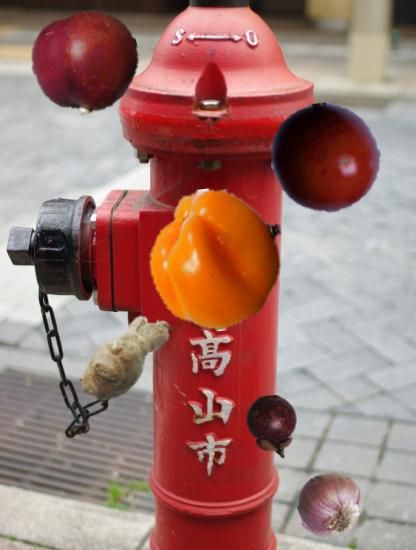Ginger: (70, 302, 182, 414)
Mangostan: (240, 395, 305, 460)
Nectarine: (32, 9, 140, 117)
Onion: (295, 472, 369, 546)
Pepper: (145, 188, 289, 332)
Tamarillo: (271, 103, 381, 213)
